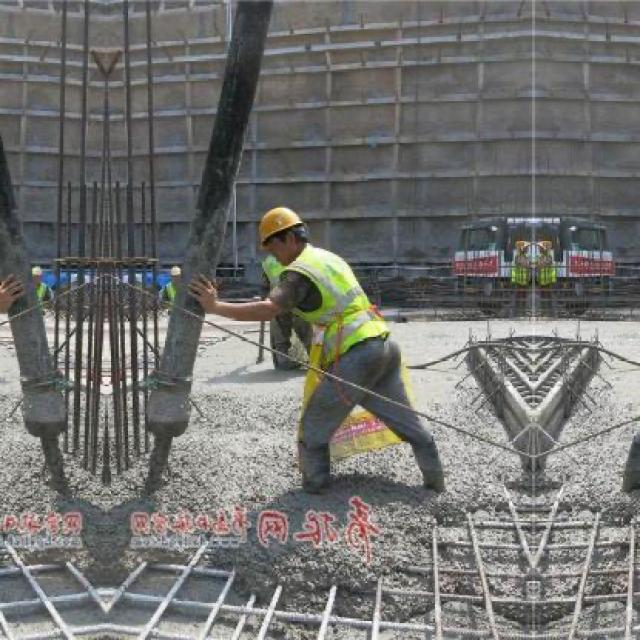helmet: (252, 197, 314, 261)
